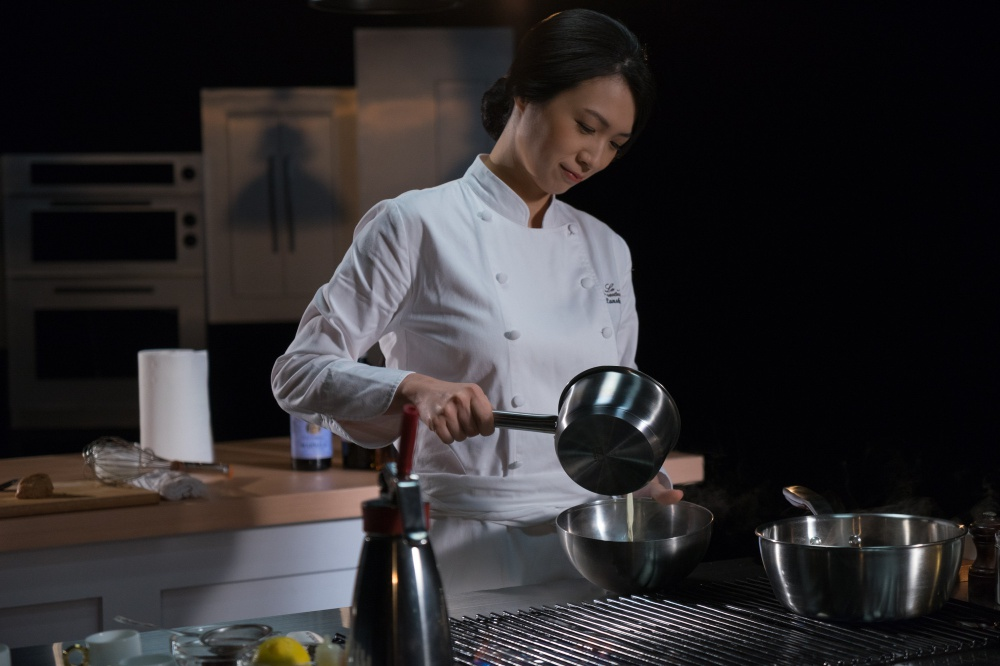female: (465, 5, 651, 214)
